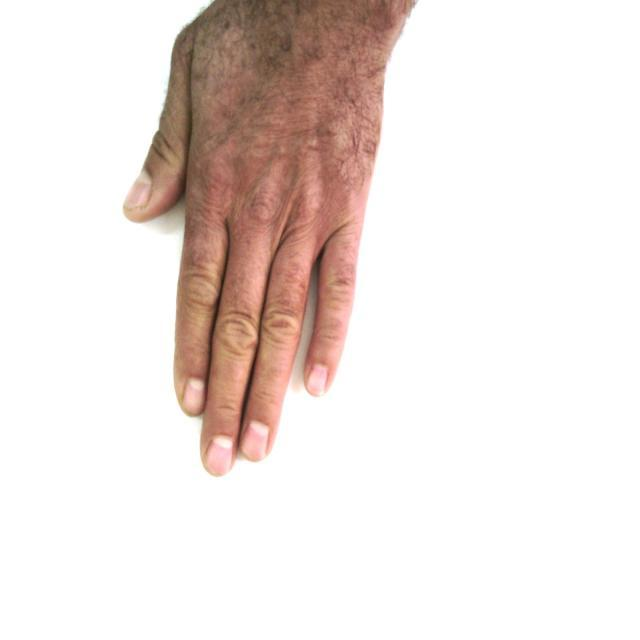Fingernail: (206, 437, 234, 476), (243, 423, 269, 462), (125, 174, 151, 208), (183, 378, 204, 415), (308, 364, 326, 396)
